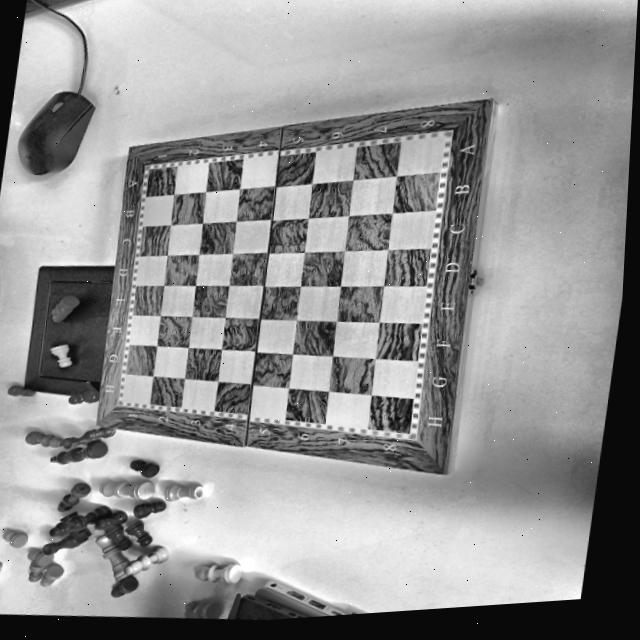chessboard: (96, 99, 492, 474)
